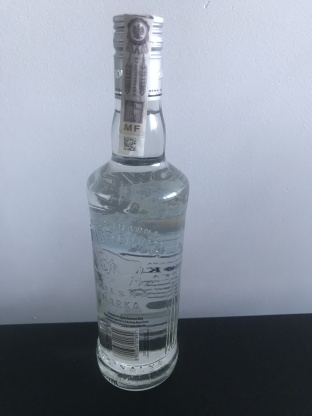nakretka: (110, 9, 166, 104)
